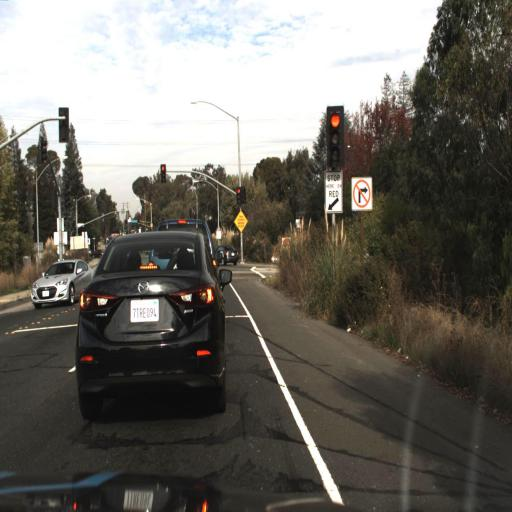car: (69, 227, 230, 426), (25, 254, 89, 310), (30, 259, 94, 302)
trafficLight-Red: (323, 106, 346, 178), (158, 161, 167, 187), (234, 184, 242, 206)
